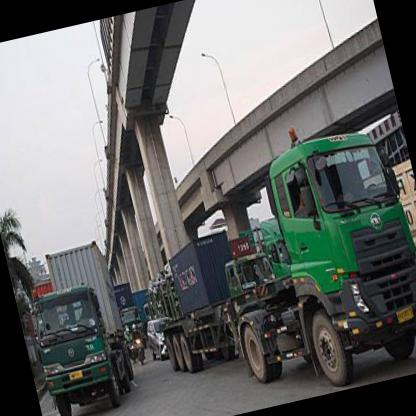truck: (260, 123, 416, 397), (25, 282, 127, 416)
